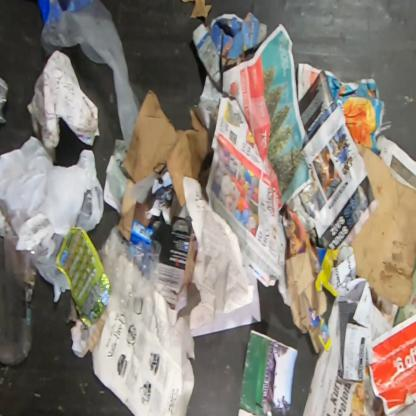rigid_plastic: (0, 236, 38, 366)
soft_plastic: (0, 135, 105, 303), (39, 0, 142, 149), (55, 226, 113, 327), (97, 225, 163, 311)
